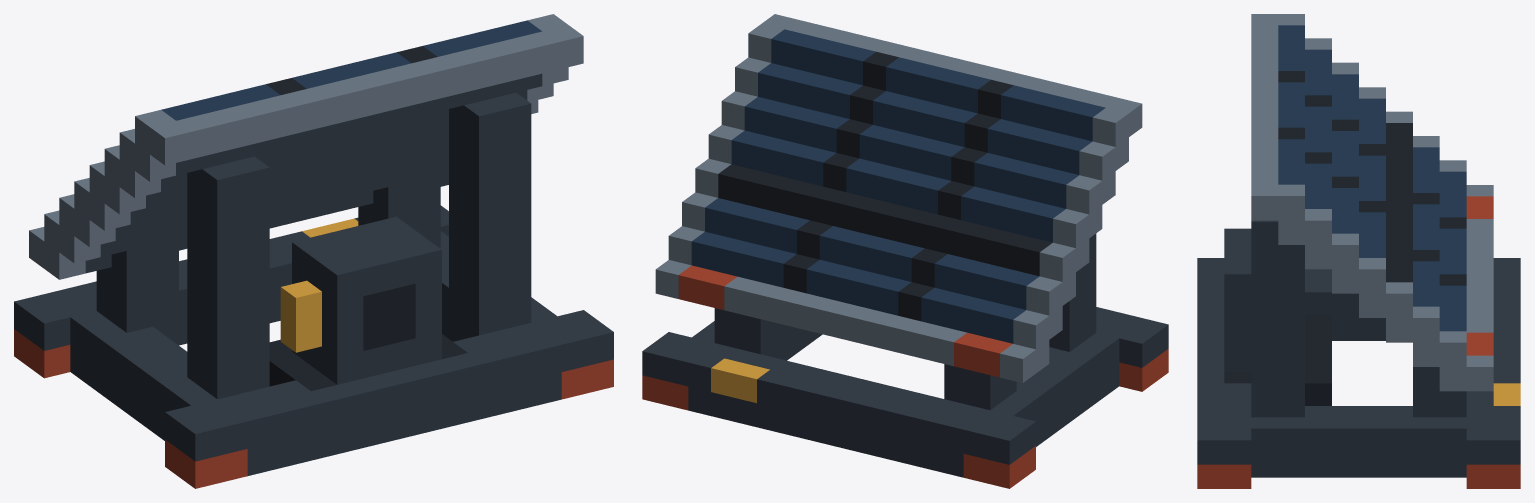
File: solar_array_skid.glb
3 views of the same model, side by side, from view 1: azimuth 30°, elevation 25°; view 2: azimuth 150°, elevation 25°; view 3: azimuth 270°, elevation 25° (orthographic). The views are drawn at different scales.
Visible parts, largest first — view 1: prop; view 2: prop; view 3: prop.
Part boxes in pixels (<box>): prop: <box>14,14,613,488</box>; prop: <box>642,14,1168,488</box>; prop: <box>1197,14,1520,488</box>.
Bounding box in the file's own units: 16 × 12 × 12.
